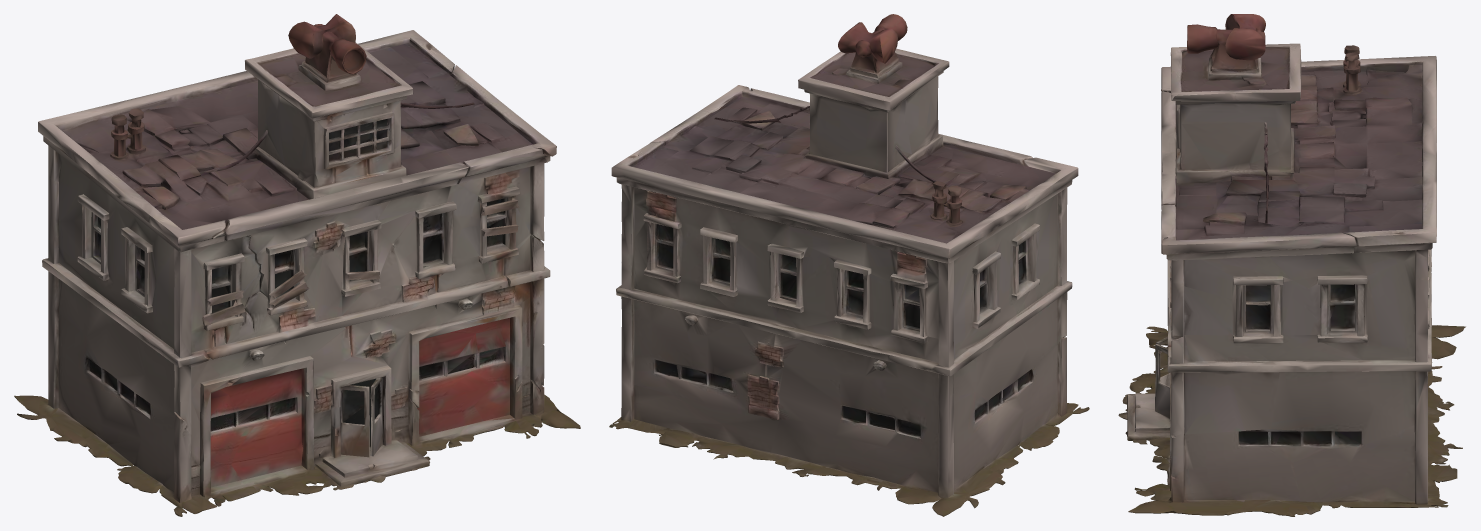
File: fire_station_b_idle.glb
3 renders of one model, left to right at view 1: azimuth 30°, elevation 25°; view 2: azimuth 150°, elevation 25°; view 3: azimuth 270°, elevation 25°, orthographic. The views are drawn at different scales.
Visible parts, largest first — view 1: tripo_node_629c83f3-54d6-4a71-a96e-ca2ab239af42; view 2: tripo_node_629c83f3-54d6-4a71-a96e-ca2ab239af42; view 3: tripo_node_629c83f3-54d6-4a71-a96e-ca2ab239af42.
Part boxes in pixels (x1=…): tripo_node_629c83f3-54d6-4a71-a96e-ca2ab239af42: x1=14, y1=14, x2=580, y2=516; tripo_node_629c83f3-54d6-4a71-a96e-ca2ab239af42: x1=609, y1=14, x2=1089, y2=516; tripo_node_629c83f3-54d6-4a71-a96e-ca2ab239af42: x1=1118, y1=14, x2=1465, y2=516.
Bounding box in the file's own units: 14 × 13.18 × 10.42.
1 material, 1 textured.
